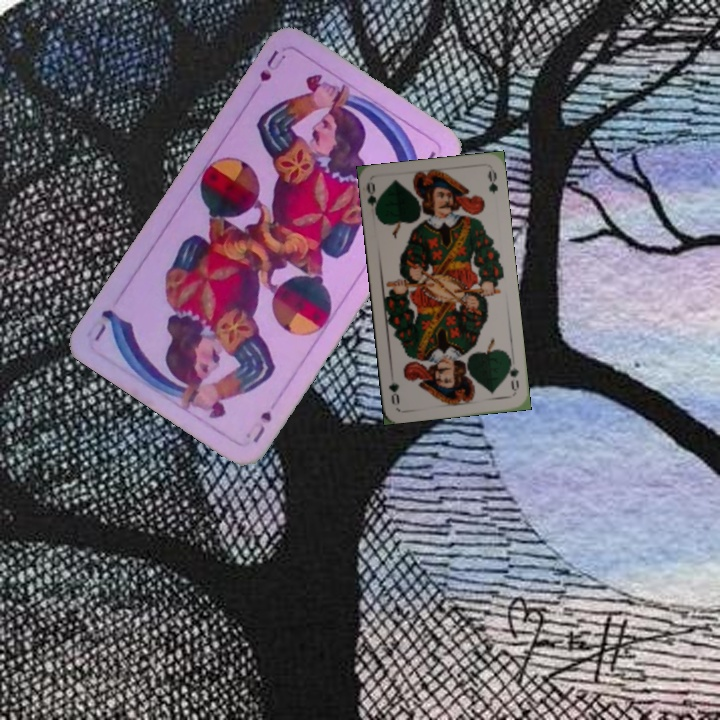GO: (362, 179, 383, 220), (503, 354, 522, 393)
SU: (255, 45, 289, 85), (248, 407, 275, 446)
